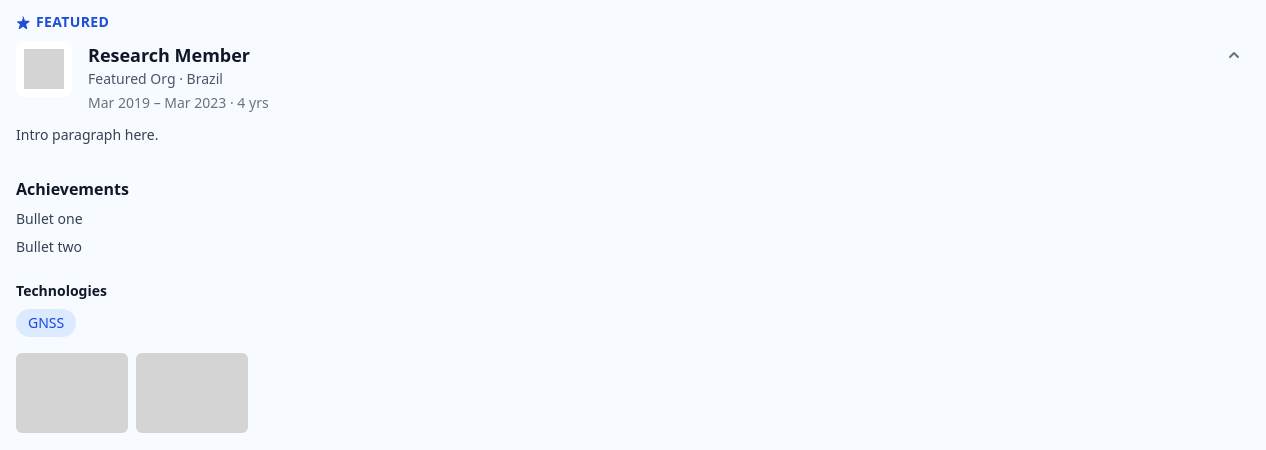
Test case: FeaturedExperience › hides the achievements section when the toggle is clicked
Click the button named "collapse details". click: (1234, 55)
box: [1220,41,1248,69]
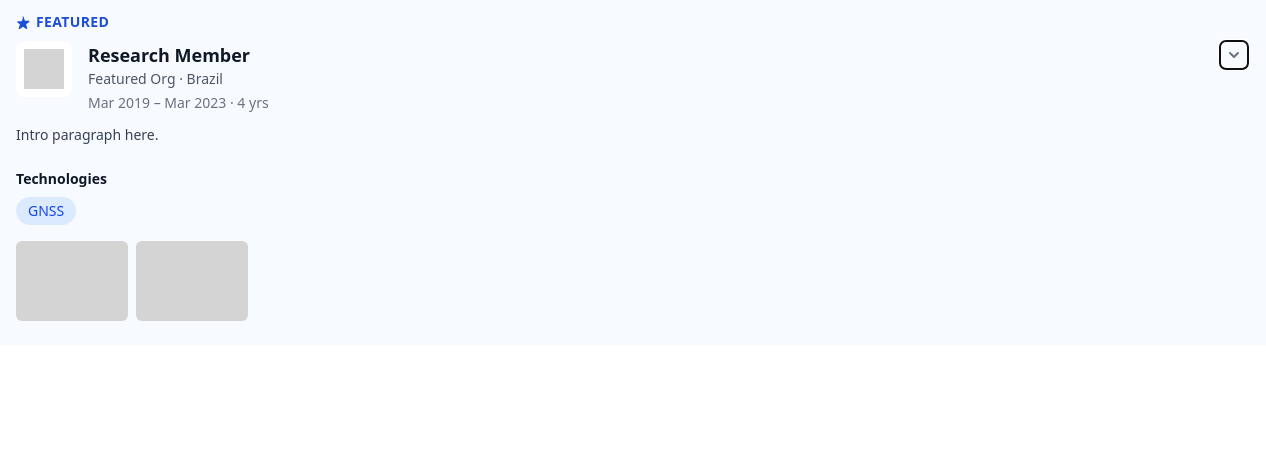
Now the text "Bullet one" is gone
Now the heading "Achievements" is gone
Now the button named "expand details" is collapsed, box [1220,41,1248,69]
